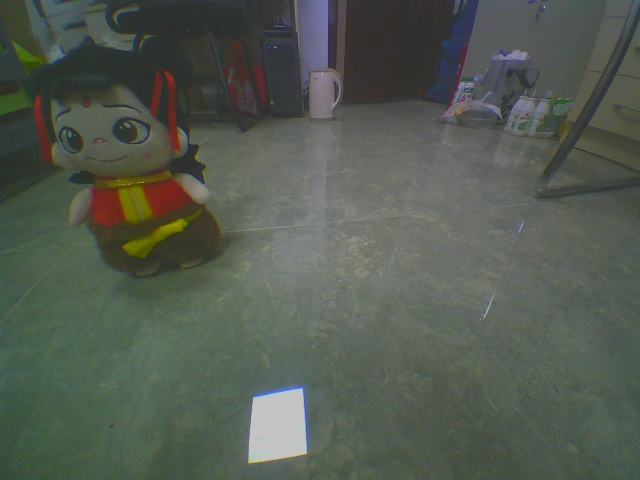Nezha2: (27, 36, 222, 278)
